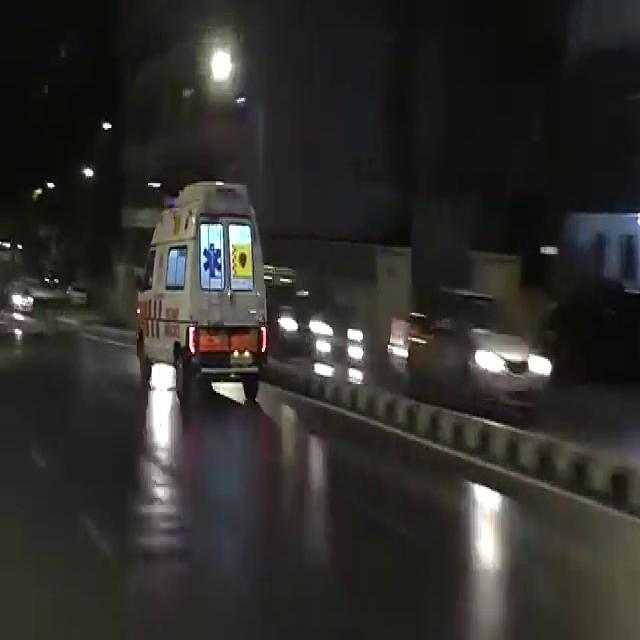ambulance: (130, 117, 278, 392)
